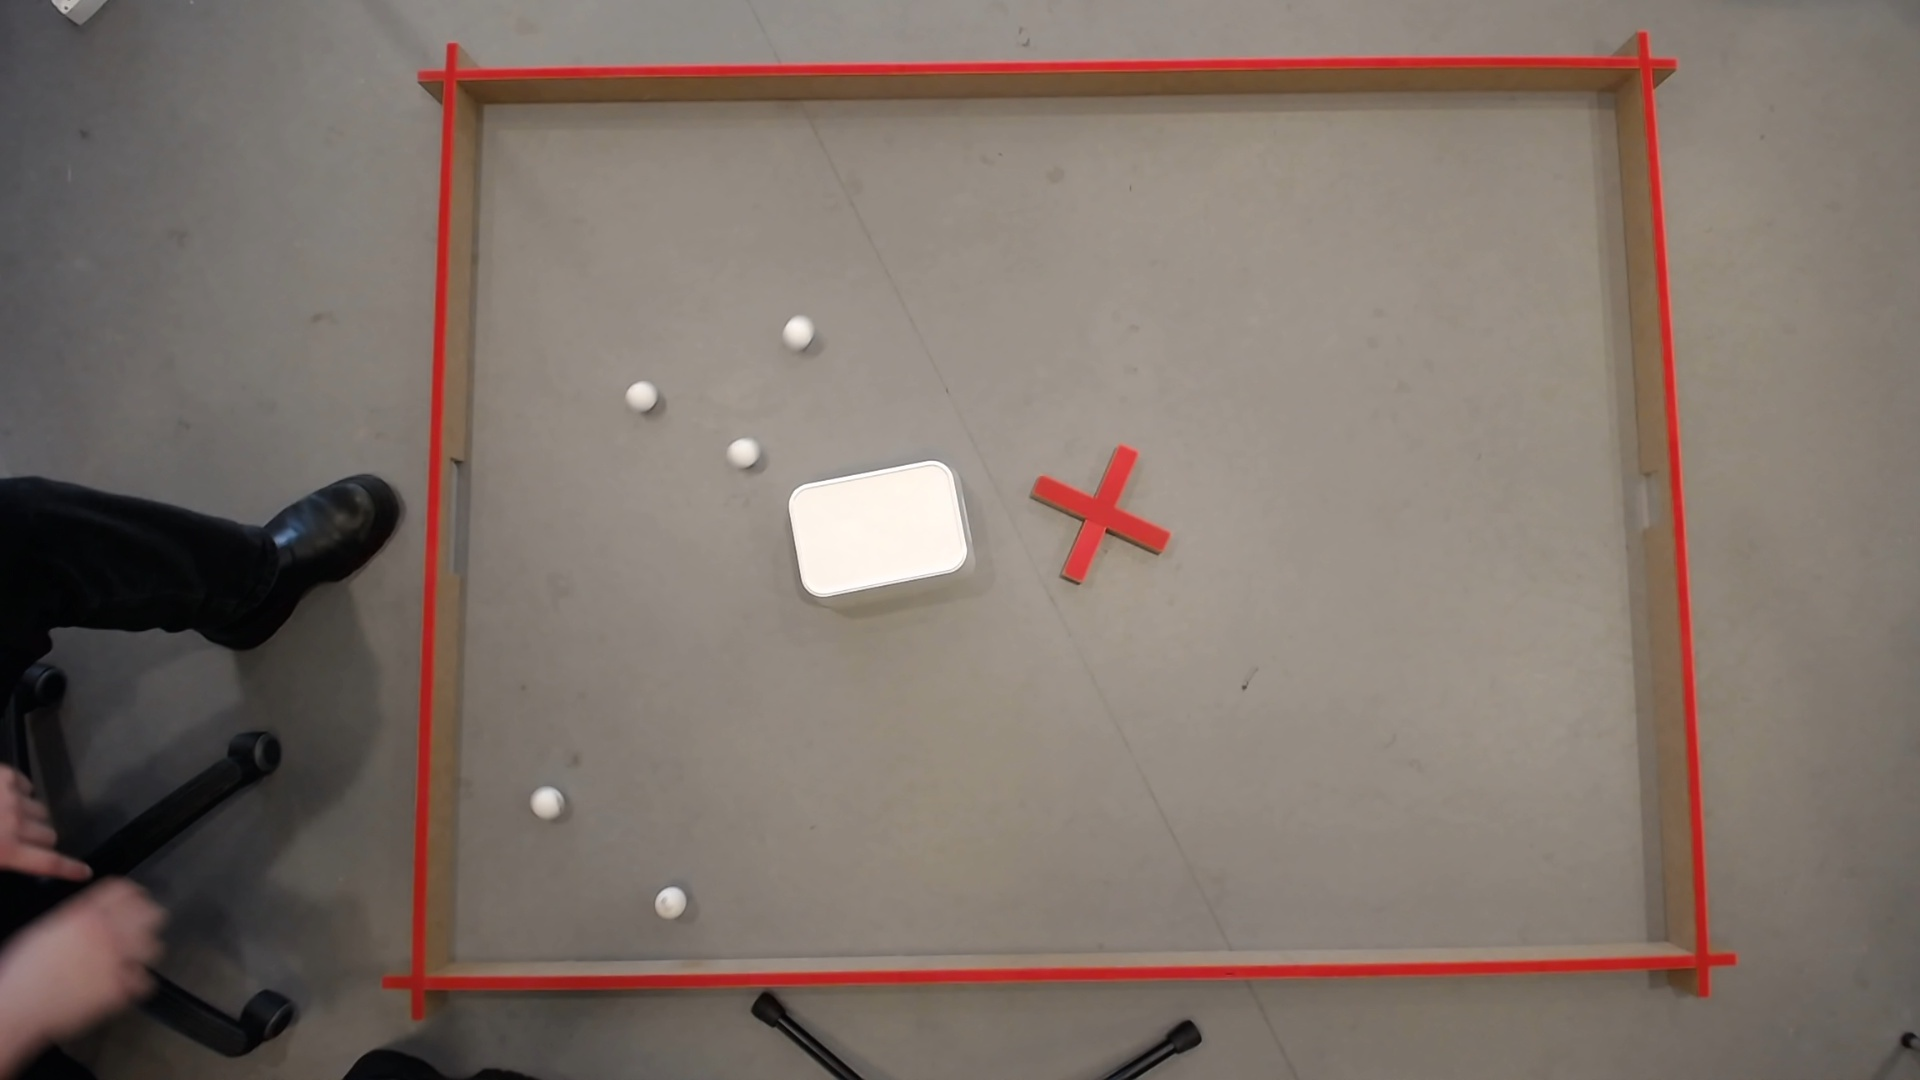balls: (782, 454, 972, 600), (781, 311, 816, 347), (727, 434, 758, 465), (624, 377, 657, 407), (535, 789, 556, 808)
car: (655, 882, 684, 909)
